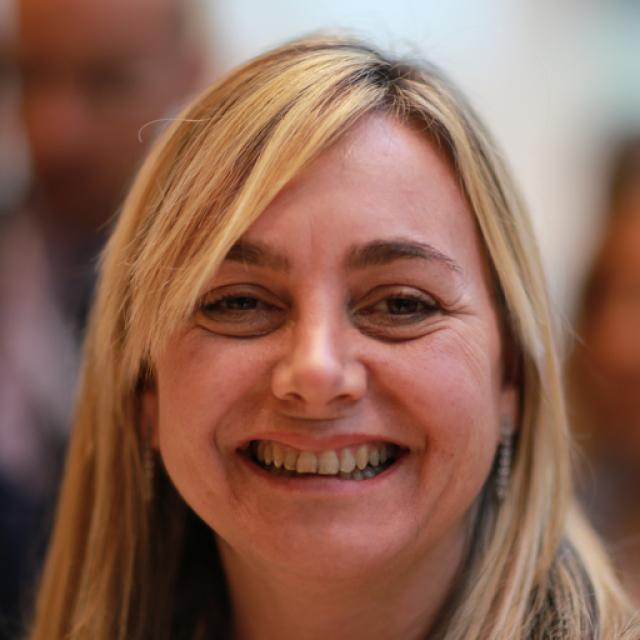Dark Circle: (352, 312, 445, 342), (195, 313, 289, 336)
